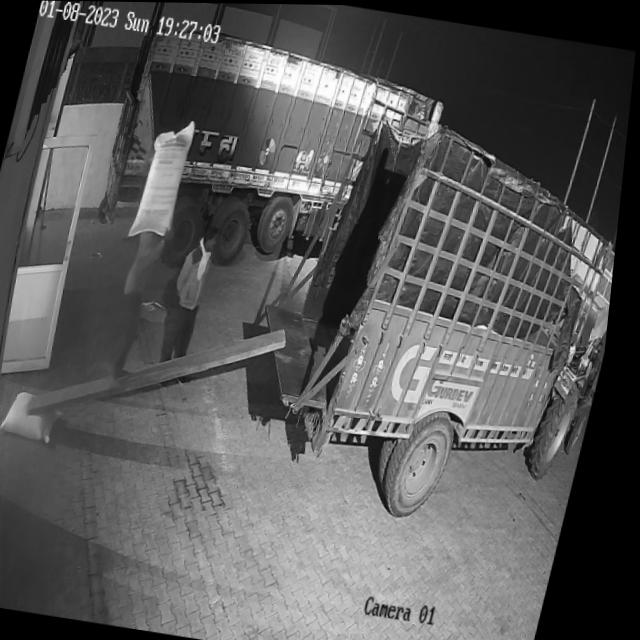sack: (132, 114, 200, 243), (7, 388, 75, 443)
